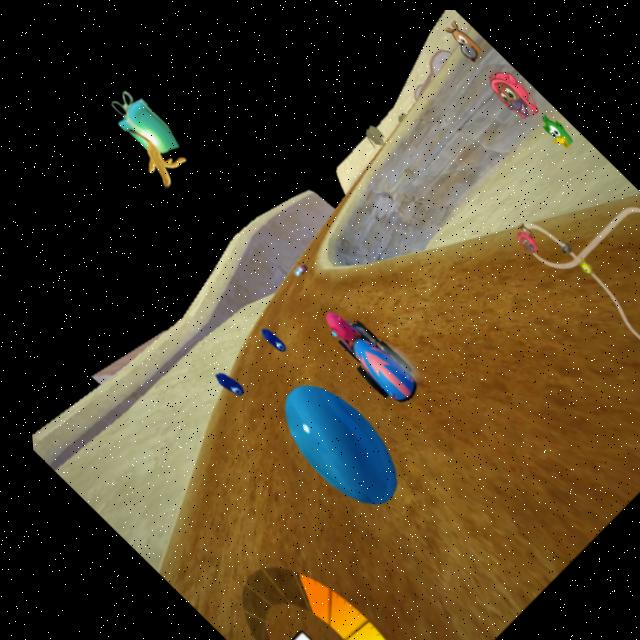enemy_kart: (287, 258, 304, 275)
nitro: (203, 363, 242, 401), (252, 320, 287, 355)
obstacle: (263, 374, 411, 517)
off_track: (318, 97, 511, 281)
player_kart: (309, 298, 425, 411)
